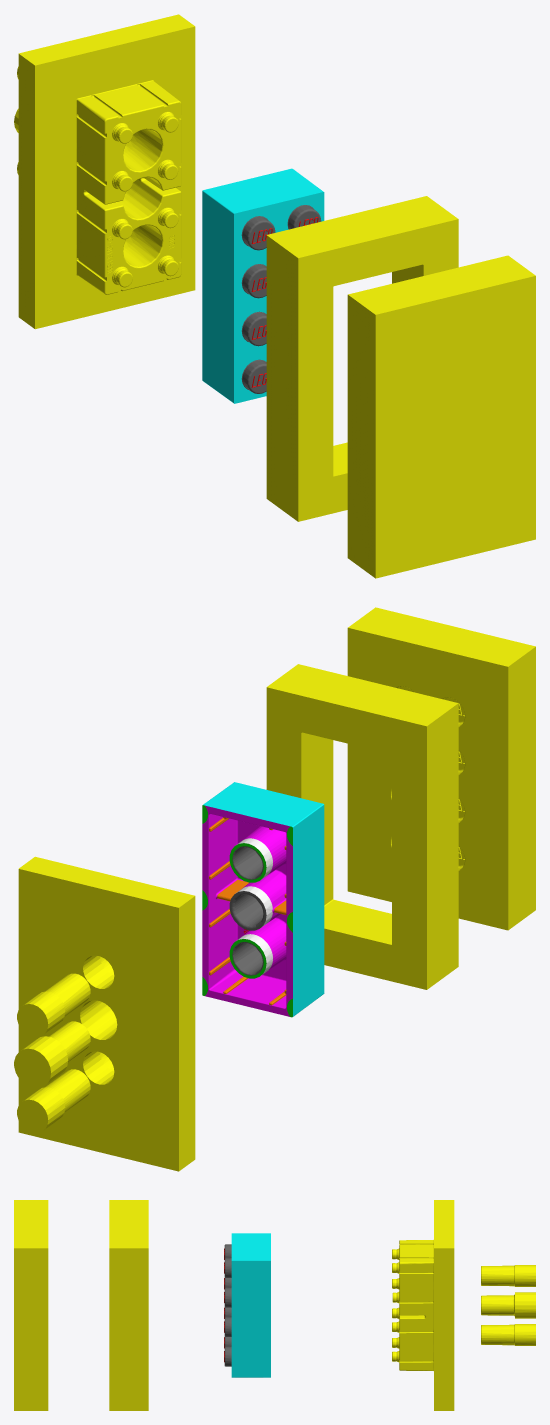
The model's file is LegoBlock_from_NX_objfile_2.fbx.
3 views of the same model, one above another, from view 1: azimuth 30°, elevation 25°; view 2: azimuth 150°, elevation 25°; view 3: azimuth 270°, elevation 25° (orthographic). The views are drawn at different scales.
Visible parts, largest first — view 1: PD10003001_U_elementAndMouldFeatures_Part8, PD10003001_U_elementAndMouldFeatures_Part3, PD10003001_U_elementAndMouldFeatures_Part2; view 2: PD10003001_U_elementAndMouldFeatures_Part8, PD10003001_U_elementAndMouldFeatures_Part1, PD10003001_U_elementAndMouldFeatures_Part3, PD10003001_U_elementAndMouldFeatures_Part2, PD10003001_U_elementAndMouldFeatures_Part5, PD10003001_U_elementAndMouldFeatures_Part9, PD10003001_U_elementAndMouldFeatures_Part7; view 3: PD10003001_U_elementAndMouldFeatures_Part8, PD10003001_U_elementAndMouldFeatures_Part3, PD10003001_U_elementAndMouldFeatures_Part2.
Part boxes in pixels (bbox=[...]): PD10003001_U_elementAndMouldFeatures_Part8: bbox=[14, 14, 535, 578]; PD10003001_U_elementAndMouldFeatures_Part3: bbox=[202, 168, 324, 403]; PD10003001_U_elementAndMouldFeatures_Part2: bbox=[241, 205, 321, 393]; PD10003001_U_elementAndMouldFeatures_Part8: bbox=[14, 607, 535, 1171]; PD10003001_U_elementAndMouldFeatures_Part1: bbox=[202, 805, 292, 1016]; PD10003001_U_elementAndMouldFeatures_Part3: bbox=[203, 782, 324, 1016]; PD10003001_U_elementAndMouldFeatures_Part2: bbox=[229, 846, 266, 975]; PD10003001_U_elementAndMouldFeatures_Part5: bbox=[202, 805, 292, 1017]; PD10003001_U_elementAndMouldFeatures_Part9: bbox=[209, 817, 286, 1005]; PD10003001_U_elementAndMouldFeatures_Part7: bbox=[235, 838, 272, 975]; PD10003001_U_elementAndMouldFeatures_Part8: bbox=[14, 1200, 535, 1410]; PD10003001_U_elementAndMouldFeatures_Part3: bbox=[231, 1233, 270, 1377]; PD10003001_U_elementAndMouldFeatures_Part2: bbox=[224, 1244, 231, 1366].
Bounding box in the file's own units: 280 × 440 × 1280.
